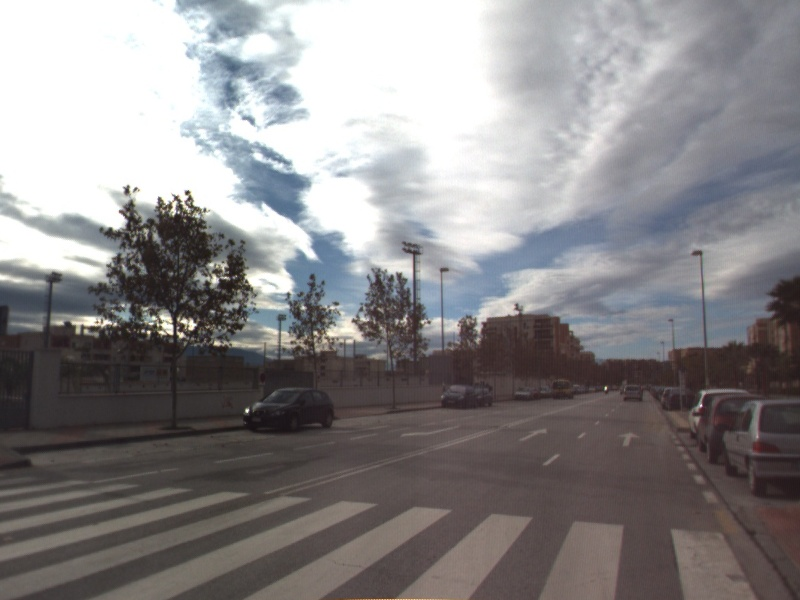STRAIGHT: (516, 425, 550, 443), (615, 429, 642, 448)
